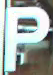Parking: (4, 4, 47, 74)
